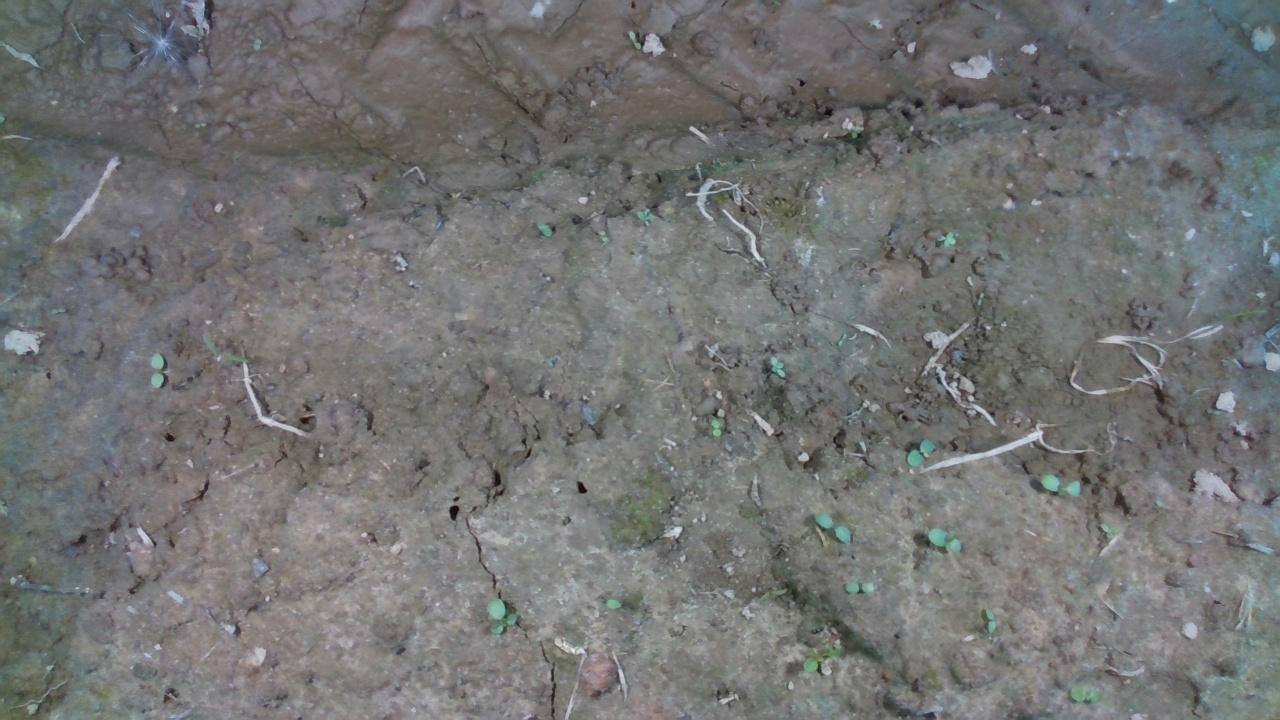weed: (815, 509, 861, 548), (483, 597, 520, 641), (1035, 469, 1083, 497), (924, 524, 968, 550), (146, 347, 173, 388), (978, 603, 1009, 637), (904, 435, 935, 467), (842, 578, 887, 599), (635, 208, 670, 232), (761, 352, 792, 377), (536, 221, 565, 238), (936, 229, 960, 245), (710, 416, 727, 436)
